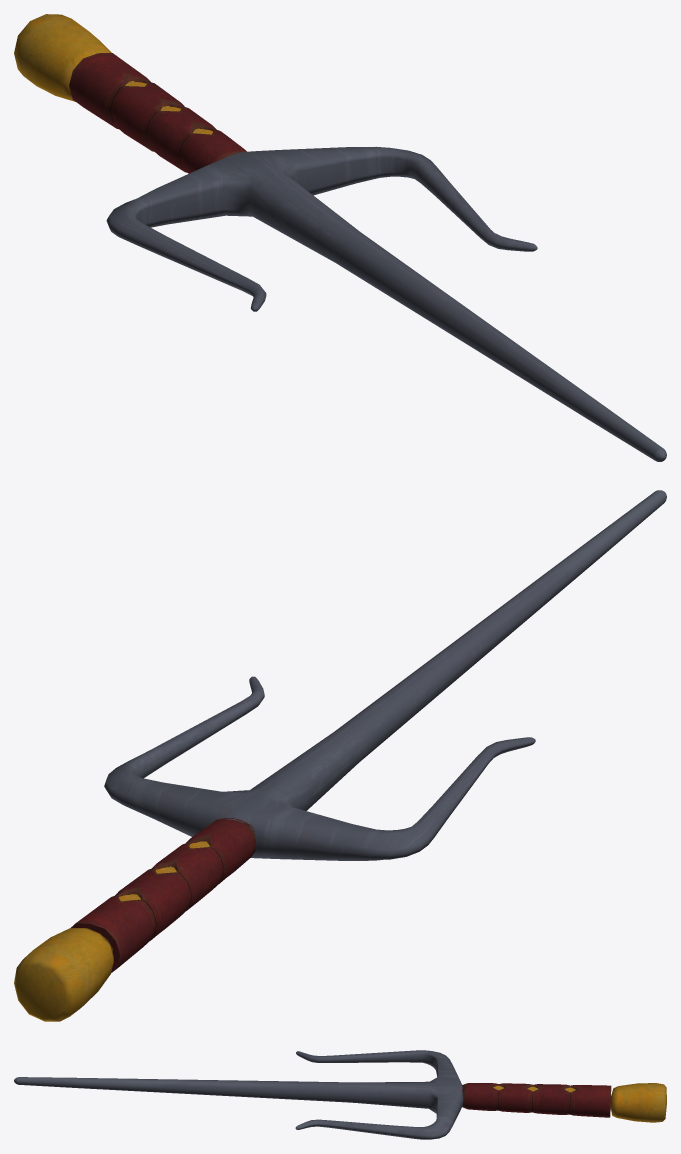
Rendered from raph_sai_L.fbx.
The picture shows the model from 3 angles, top to bottom: view 1: azimuth 30°, elevation 25°; view 2: azimuth 150°, elevation 25°; view 3: azimuth 270°, elevation 25°; orthographic projection. The views are drawn at different scales.
Visible parts, largest first — view 1: raph_sai_L; view 2: raph_sai_L; view 3: raph_sai_L.
Boxes of the visible parts, x1,y1,x2,y2 form: raph_sai_L: (14, 14, 666, 461); raph_sai_L: (14, 490, 666, 1021); raph_sai_L: (14, 1050, 666, 1139).
Bounding box in the file's own units: 10.28 × 2.55 × 35.21.
1 material, 1 textured.
